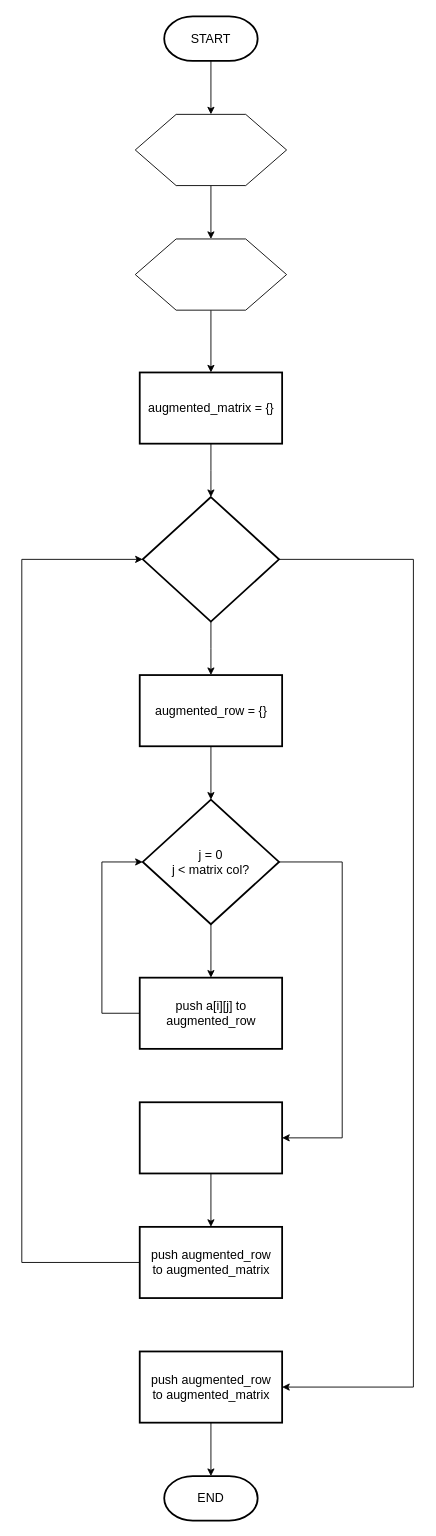
The diagram is 436 pixels wide and 1536 high, and some of its shapes have lost their labels. Here are the shapes that lost their labels. From the top down, the centre of each, then its label:
At pixel 210 149: "define matrix a as coefficient matrix".
At pixel 210 274: "define matrix b as constant matrix".
At pixel 210 559: "i = 0 i < matrix row?".
At pixel 210 1137: "push b[i][0] to augmented_row".
